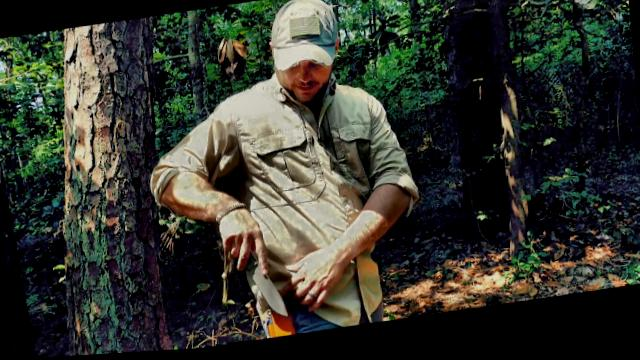knife: (230, 235, 290, 328)
